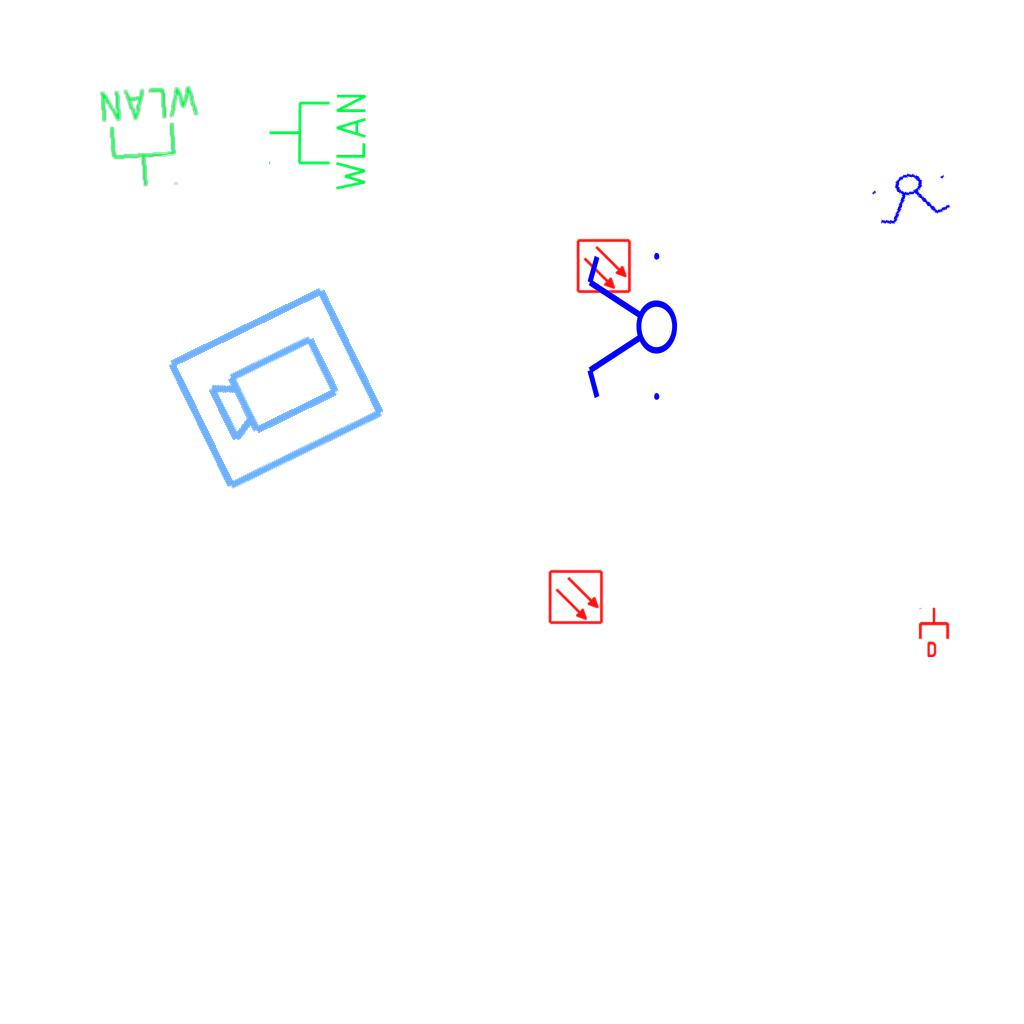Datenanschluss_einfach: (917, 607, 951, 657)
KFO_Kamera_mit_Festobjektiv: (160, 277, 392, 497)
RMO_Rauchmelder_optischer: (576, 238, 632, 294), (548, 569, 604, 625)
Serienschalter: (583, 244, 679, 412), (865, 164, 959, 230)
WLAN: (96, 80, 208, 193), (266, 90, 370, 195)
